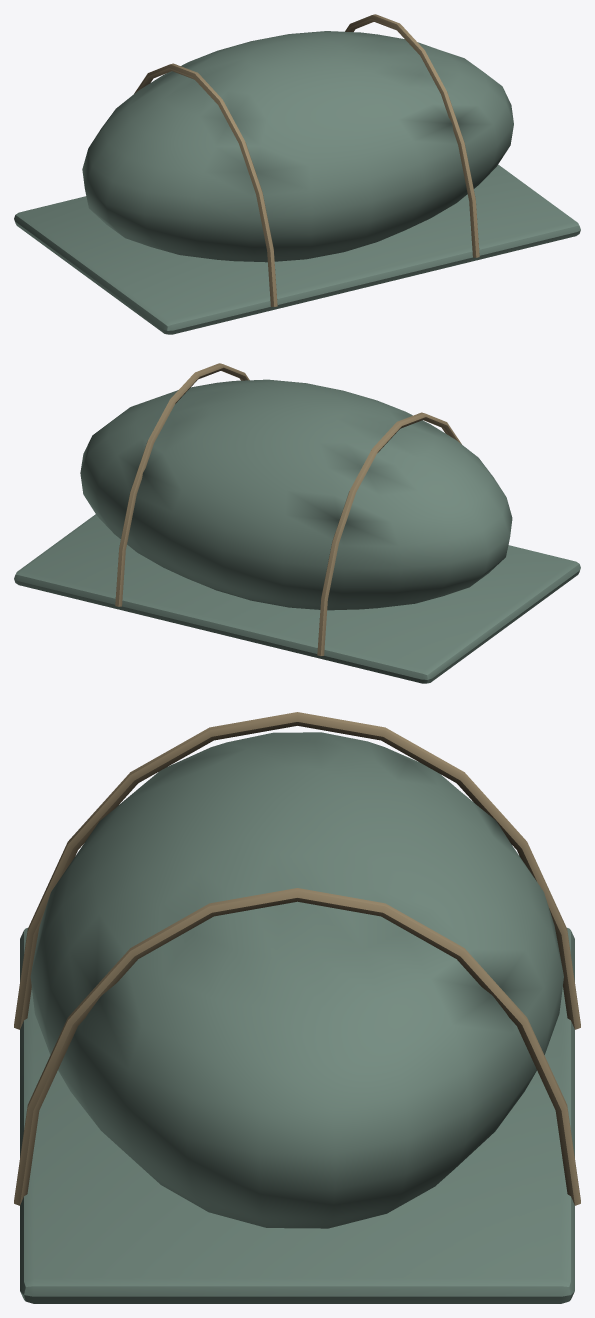
The model's file is tarp.glb.
3 renders of one model, top to bottom at view 1: azimuth 30°, elevation 25°; view 2: azimuth 150°, elevation 25°; view 3: azimuth 270°, elevation 25°, orthographic. The views are drawn at different scales.
Parts seen in each view (by area): view 1: boat_tarp, boat_rope; view 2: boat_tarp, boat_rope; view 3: boat_tarp, boat_rope.
Boxes of the visible parts, x1,y1,x2,y2 form: boat_tarp: (14, 31, 580, 334); boat_rope: (134, 14, 479, 306); boat_tarp: (14, 379, 580, 683); boat_rope: (115, 363, 461, 655); boat_tarp: (20, 732, 574, 1303); boat_rope: (14, 712, 580, 1205).
Bounding box in the file's own units: 1.24 × 0.5327 × 0.8172.
